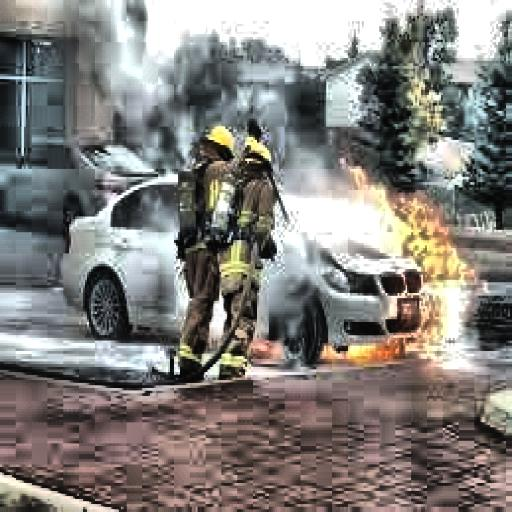fire: (328, 151, 486, 372)
